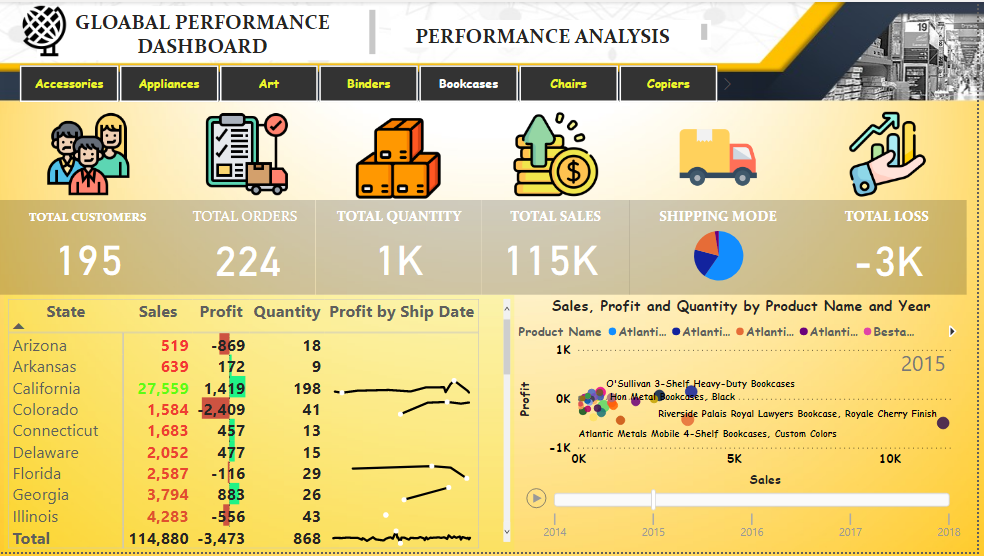

Layout of this report page (visuals, bound fields, positions):
{"tool":"powerbi","page":{"name":"Page 1","canvas":[1280,720],"ordinal":0},"visuals":[{"type":"textbox","box":[511.2,23,419,36],"z":0},{"type":"textbox","box":[49,5.8,447.8,70.6],"z":1000},{"type":"image","box":[0,0,115.2,76.3],"z":2000},{"type":"slicer","fields":{"Values":["tblOrders.Sub-Category"]},"box":[0,76.3,963.4,61.9],"z":3000},{"type":"image","box":[858.2,148.3,162.7,110.9],"z":4000},{"type":"image","box":[643.7,138.2,167,121],"z":5000},{"type":"image","box":[1072.8,138.2,178.6,121],"z":6000},{"type":"image","box":[236.2,138.2,174.2,121],"z":7000},{"type":"image","box":[423.4,144,197.3,121],"z":8000},{"type":"image","box":[43.2,138.2,144,121],"z":9000},{"type":"textbox","box":[0,259.2,233.3,123.8],"z":10000},{"type":"textbox","box":[233.3,259.2,180,123.8],"z":11000},{"type":"textbox","box":[413.3,259.2,217.4,123.8],"z":12000},{"type":"textbox","box":[630.7,259.2,193,123.8],"z":13000},{"type":"textbox","box":[823.7,259.2,233.3,123.8],"z":14000},{"type":"textbox","box":[1057,259.2,208.8,123.8],"z":15000},{"type":"card","fields":{"Values":["Count(tblOrders.Customer ID)"]},"box":[60.5,293.8,112.3,76.3],"z":16000},{"type":"card","fields":{"Values":["Count(tblOrders.Order ID)"]},"box":[267.8,295.2,112.3,76.3],"z":17000},{"type":"card","fields":{"Values":["Sum(tblOrders.Quantity)"]},"box":[466.6,293.8,112.3,76.3],"z":18000},{"type":"card","fields":{"Values":["Sum(tblOrders.Sales)"]},"box":[648,293.8,145.4,76.3],"z":19000},{"type":"card","fields":{"Values":["Sum(tblOrders.Profit)"]},"box":[1105.9,295.2,112.3,76.3],"z":21000},{"type":"pieChart","fields":{"Category":["tblOrders.Ship Mode"],"Y":["Sum(tblOrders.Sales)"]},"box":[843.8,286.6,193,90.7],"z":21001},{"type":"pivotTable","fields":{"Rows":["tblOrders.State"],"Values":["Sum(tblOrders.Sales)","Sum(tblOrders.Profit)","Sum(tblOrders.Quantity)","SparklineData(Sum(tblOrders.Profit)_[tblOrders.Ship Date])"]},"box":[5.8,383,668.2,337],"z":21002},{"type":"scatterChart","fields":{"Size":["Sum(tblOrders.Quantity)"],"X":["Sum(tblOrders.Sales)"],"Y":["Sum(tblOrders.Profit)"],"Series":["tblOrders.Product Name"],"Play":["tblOrders.Ship Date.Variation.Date Hierarchy.Year"]},"box":[673.9,383,591.8,337],"z":21003}]}

Visuals, with their boxes in screenshot pixels (x1, y1, x2, y2), scaled from the page's 1280x720 canvas onto the 984x556 screenshot:
textbox: x1=393 y1=18 x2=715 y2=46
textbox: x1=38 y1=4 x2=382 y2=59
image: x1=0 y1=0 x2=89 y2=59
slicer - tblOrders.Sub-Category: x1=0 y1=59 x2=741 y2=107
image: x1=660 y1=115 x2=785 y2=200
image: x1=495 y1=107 x2=623 y2=200
image: x1=825 y1=107 x2=962 y2=200
image: x1=182 y1=107 x2=315 y2=200
image: x1=325 y1=111 x2=477 y2=205
image: x1=33 y1=107 x2=144 y2=200
textbox: x1=0 y1=200 x2=179 y2=296
textbox: x1=179 y1=200 x2=318 y2=296
textbox: x1=318 y1=200 x2=485 y2=296
textbox: x1=485 y1=200 x2=633 y2=296
textbox: x1=633 y1=200 x2=813 y2=296
textbox: x1=813 y1=200 x2=973 y2=296
card - Count(tblOrders.Customer ID): x1=47 y1=227 x2=133 y2=286
card - Count(tblOrders.Order ID): x1=206 y1=228 x2=292 y2=287
card - Sum(tblOrders.Quantity): x1=359 y1=227 x2=445 y2=286
card - Sum(tblOrders.Sales): x1=498 y1=227 x2=610 y2=286
card - Sum(tblOrders.Profit): x1=850 y1=228 x2=936 y2=287
pieChart - tblOrders.Ship Mode x Sum(tblOrders.Sales): x1=649 y1=221 x2=797 y2=291
pivotTable - tblOrders.State x Sum(tblOrders.Sales): x1=4 y1=296 x2=518 y2=555
scatterChart - Sum(tblOrders.Quantity) x Sum(tblOrders.Sales): x1=518 y1=296 x2=973 y2=555
